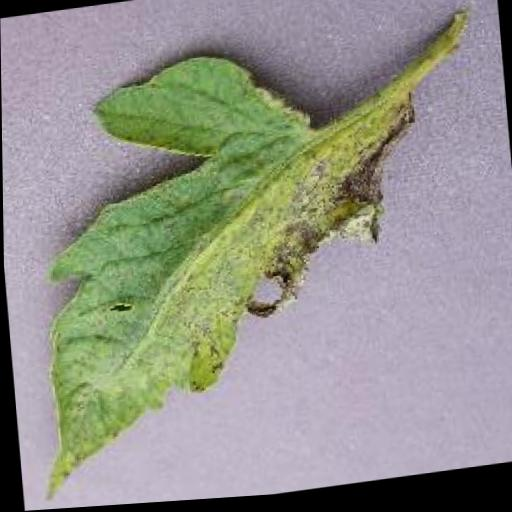Septoria: (10, 24, 442, 497)
